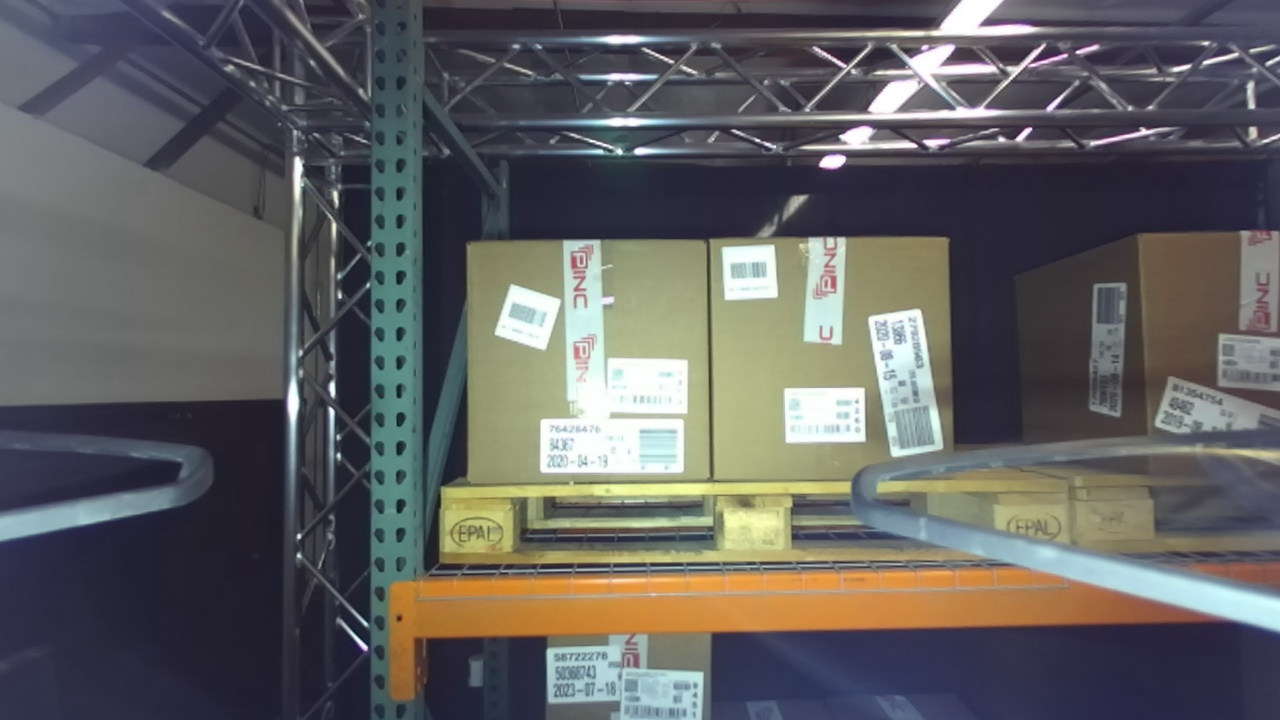box: (452, 222, 727, 505), (697, 220, 964, 497), (1117, 208, 1280, 468)
